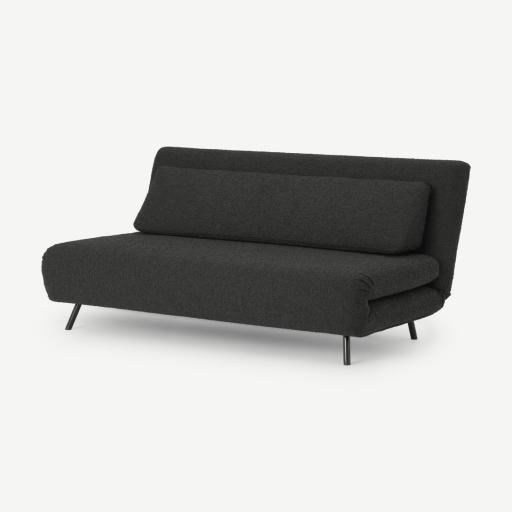back_cushion: (134, 166, 429, 254)
legs: (65, 304, 81, 330), (343, 336, 351, 365), (408, 322, 416, 339)
one-seater: (42, 147, 470, 365)
seat_cushion: (42, 233, 443, 337)
